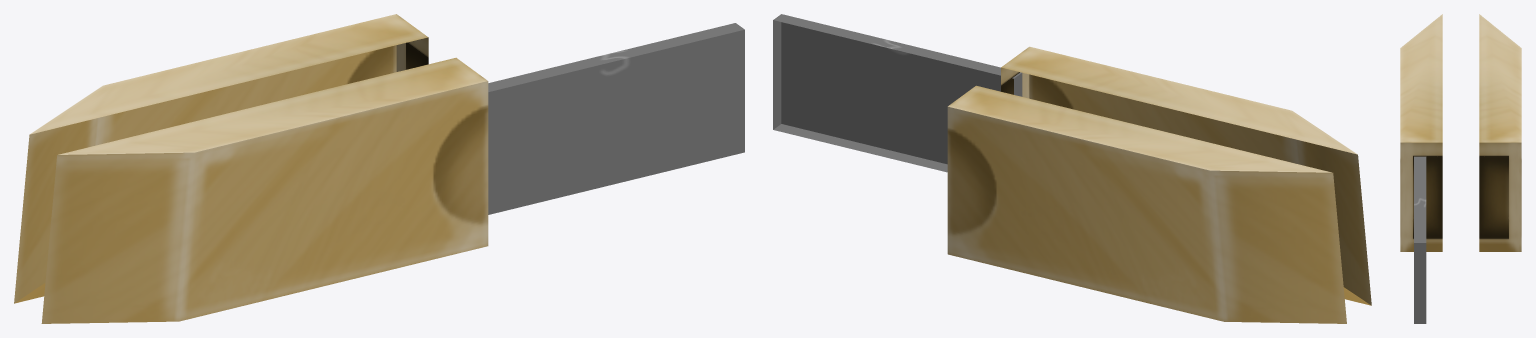
The model's file is PuzzleLock01.FBX.
The picture shows the model from 3 angles, left to right: view 1: azimuth 30°, elevation 25°; view 2: azimuth 150°, elevation 25°; view 3: azimuth 270°, elevation 25°; orthographic projection. The views are drawn at different scales.
Visible parts, largest first — view 1: LockMain, LockSlide; view 2: LockMain, LockSlide; view 3: LockMain, LockSlide.
Part boxes in pixels (x1,y1,x2,y2): LockMain: (14, 14, 488, 323); LockSlide: (488, 23, 744, 214); LockMain: (947, 46, 1371, 323); LockSlide: (773, 14, 1022, 172); LockMain: (1400, 14, 1521, 251); LockSlide: (1414, 156, 1426, 323).
Bounding box in the file's own units: 2.1 × 0.4855 × 0.4877.
